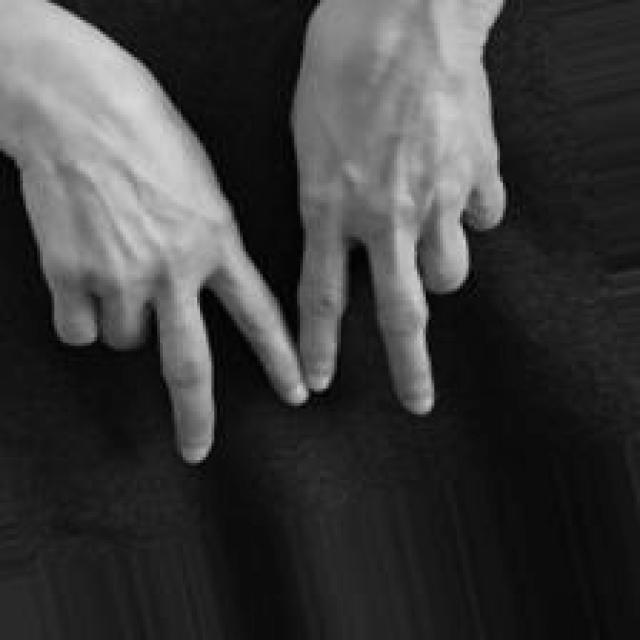M: (0, 0, 506, 469)
